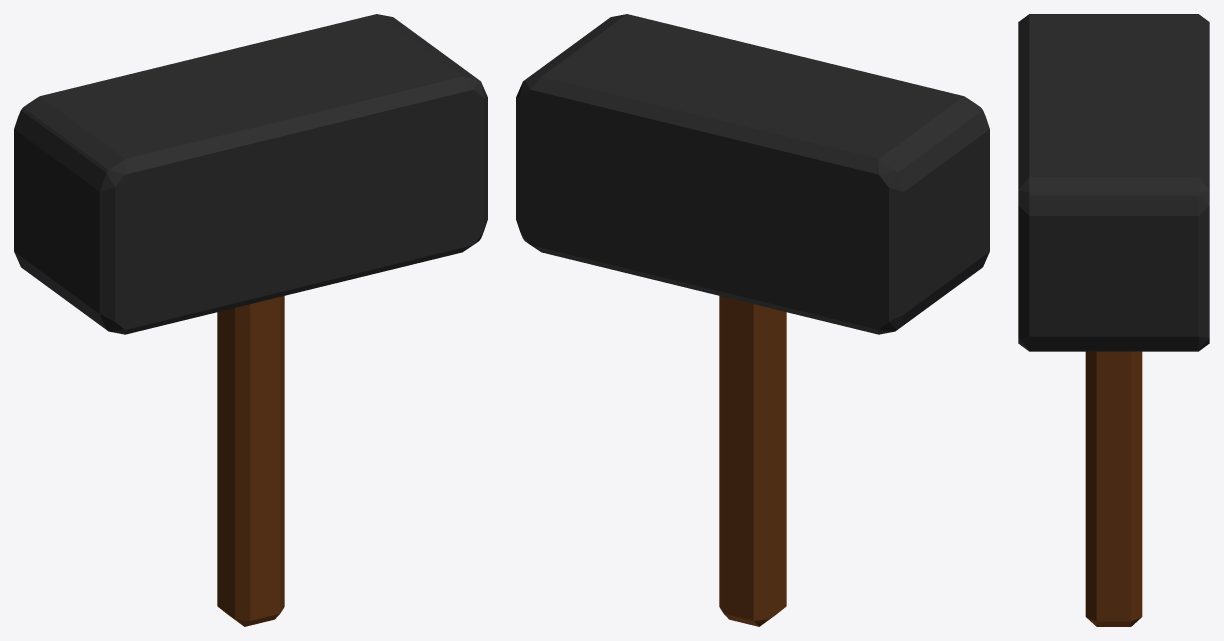
The model's file is hammer.glb.
3 renders of one model, left to right at view 1: azimuth 30°, elevation 25°; view 2: azimuth 150°, elevation 25°; view 3: azimuth 270°, elevation 25°, orthographic.
Visible parts, largest first — view 1: Hammer; view 2: Hammer; view 3: Hammer.
Part boxes in pixels (bbox=[...]): Hammer: bbox=[14, 14, 487, 626]; Hammer: bbox=[516, 14, 989, 626]; Hammer: bbox=[1018, 14, 1209, 626].
Size of the model in its own units: 0.8008 by 1.05 by 0.3463.
2 materials, 1 textured.
